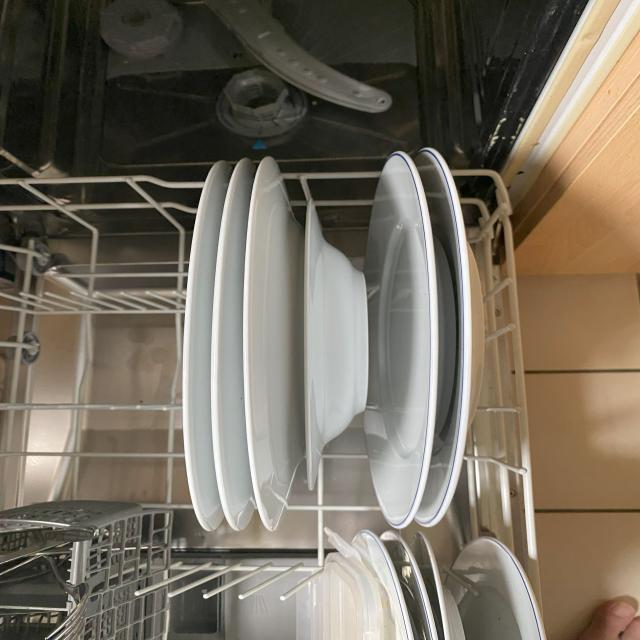clutery_bin: (11, 519, 67, 638)
empty_slot: (8, 195, 170, 498)
